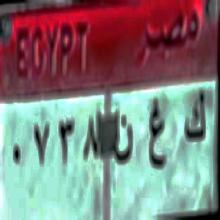0: (11, 140, 23, 164)
3: (58, 117, 74, 169)
7: (30, 120, 51, 168)
8: (82, 111, 100, 165)
ghayn: (148, 97, 167, 174)
kaaf: (181, 90, 207, 150)
noon: (112, 113, 134, 175)
